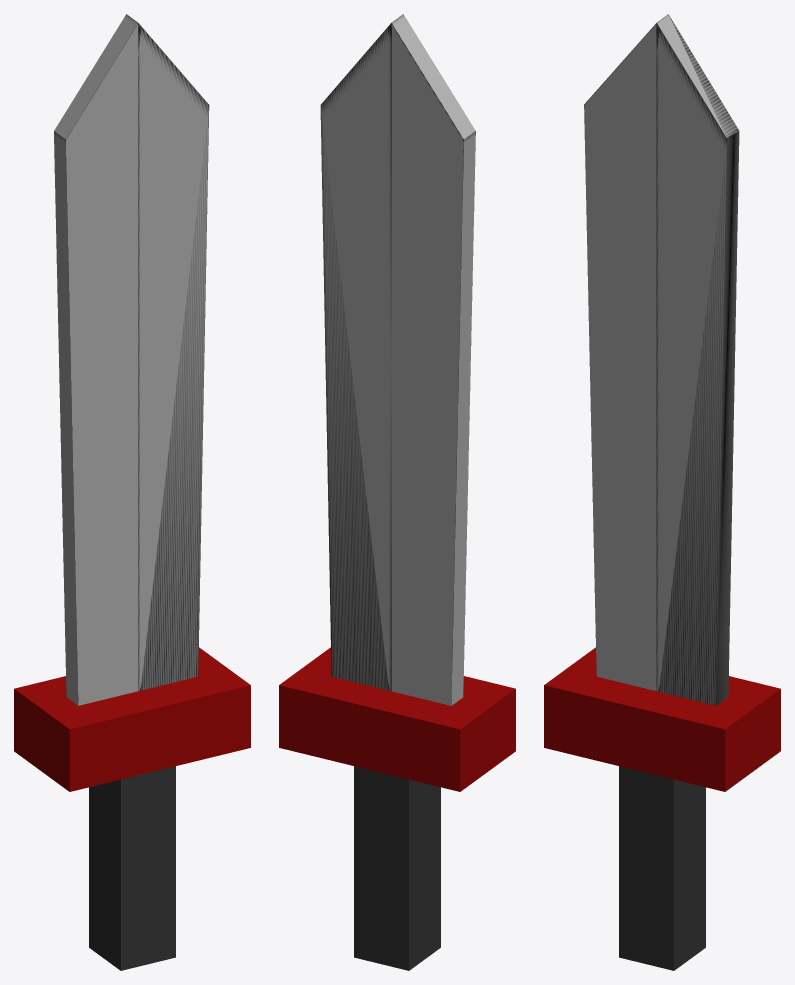
Rendered from player_weapon.obj.
3 renders of one model, left to right at view 1: azimuth 30°, elevation 25°; view 2: azimuth 150°, elevation 25°; view 3: azimuth 330°, elevation 25°, orthographic.
Parts seen in each view (by area): view 1: Cube; view 2: Cube; view 3: Cube.
Boxes of the visible parts, left/top/right/bottom form: Cube: left=14, top=14, right=250, bottom=970; Cube: left=279, top=14, right=515, bottom=970; Cube: left=544, top=14, right=780, bottom=970.
Size of the model in its own units: 0.5187 by 2.55 by 0.276.
1 material, 1 textured.
